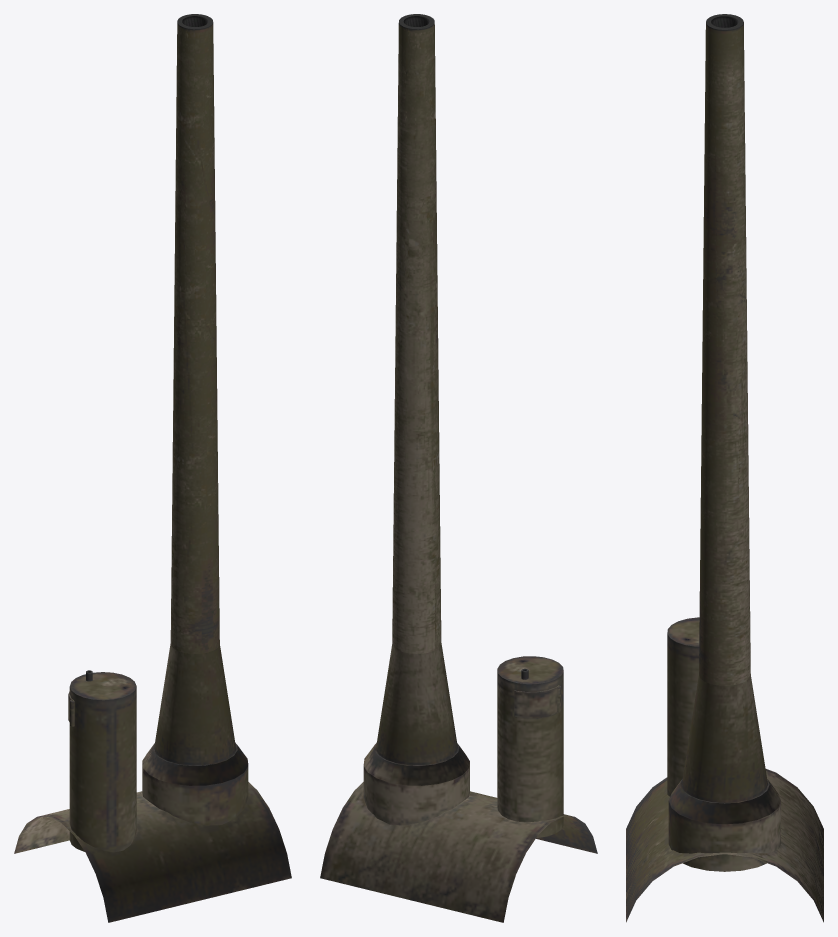
File: Gun_01.glb
3 views of the same model, side by side, from view 1: azimuth 30°, elevation 25°; view 2: azimuth 150°, elevation 25°; view 3: azimuth 270°, elevation 25° (orthographic). The views are drawn at different scales.
Parts seen in each view (by area): view 1: set_0_group_0; view 2: set_0_group_0; view 3: set_0_group_0.
Boxes of the visible parts, x1,y1,x2,y2 form: set_0_group_0: (14, 14, 291, 922); set_0_group_0: (320, 14, 597, 922); set_0_group_0: (626, 14, 823, 922).
Size of the model in its own units: 0.6815 by 2.95 by 0.6042.
Materials: 1 (1 with a texture image).
